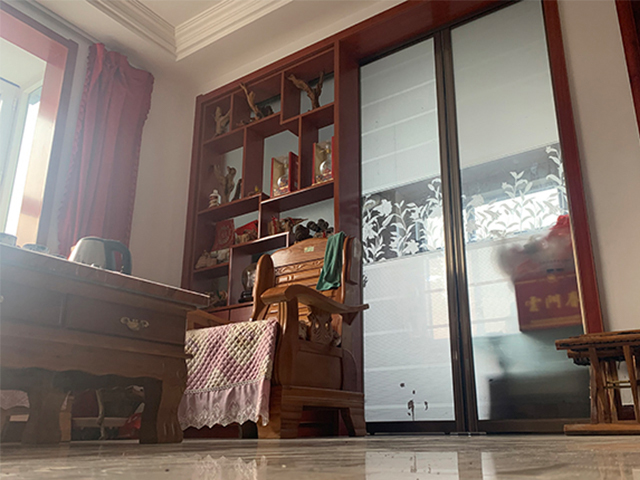sofa: (177, 234, 370, 440)
stool: (555, 330, 640, 438)
table: (1, 244, 209, 446)
